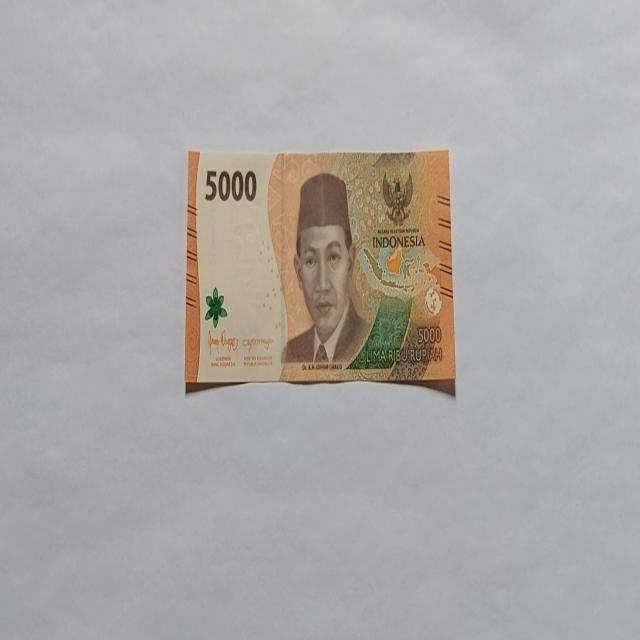lima ribu rupiah: (184, 148, 456, 394), (279, 172, 371, 370)
